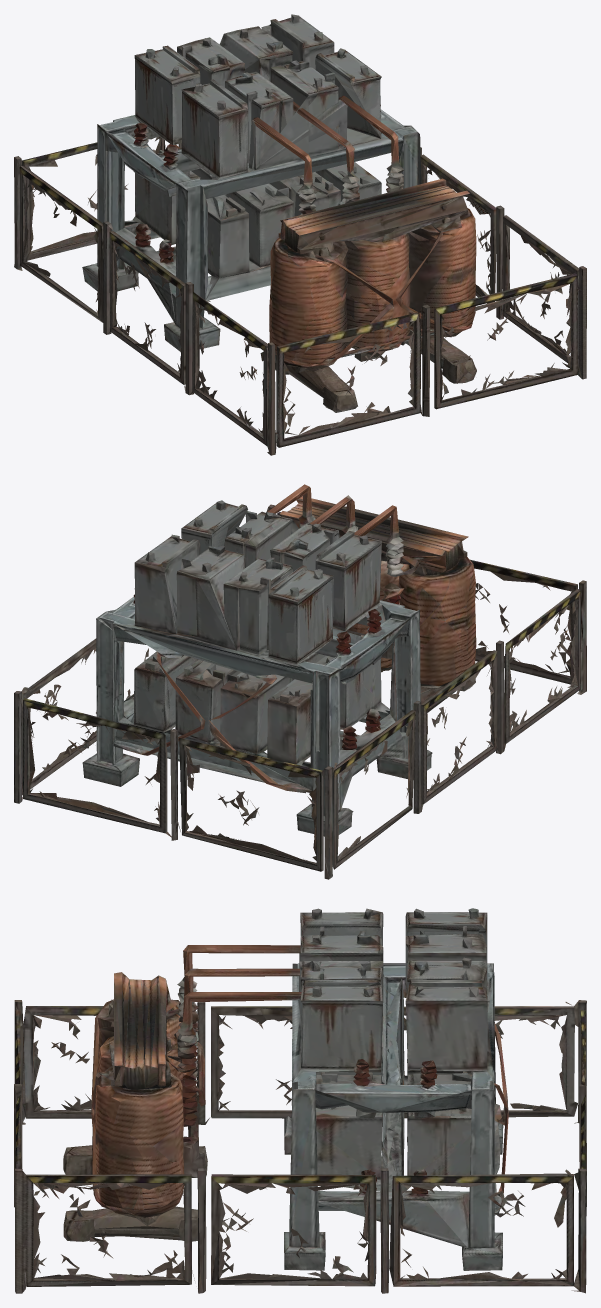
File: capacitor_bank.glb
3 renders of one model, top to bottom at view 1: azimuth 30°, elevation 25°; view 2: azimuth 150°, elevation 25°; view 3: azimuth 270°, elevation 25°, orthographic. The views are drawn at different scales.
Size of the model in its own units: 1.34 by 0.9487 by 1.9.
1 material, 1 textured.
